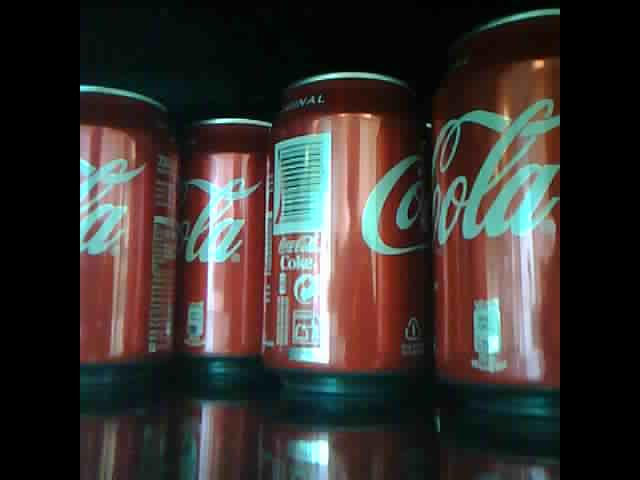coca cola: (429, 5, 560, 422), (270, 68, 428, 391), (78, 84, 178, 383), (176, 109, 274, 364)
